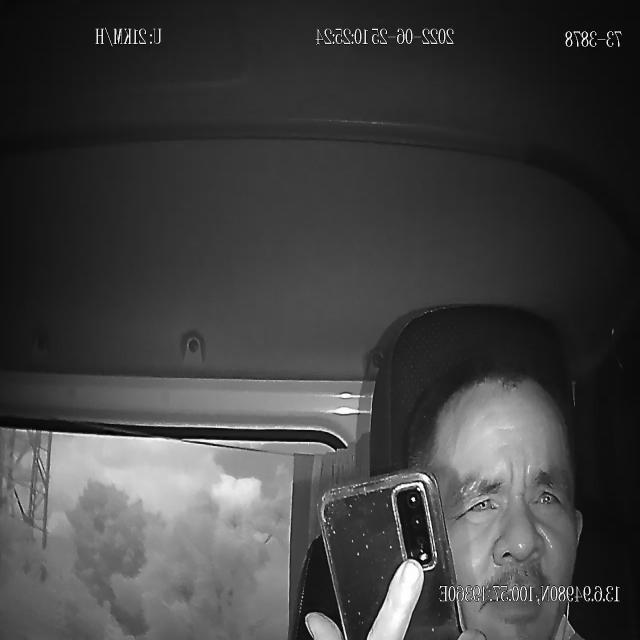phone: (316, 468, 466, 640)
